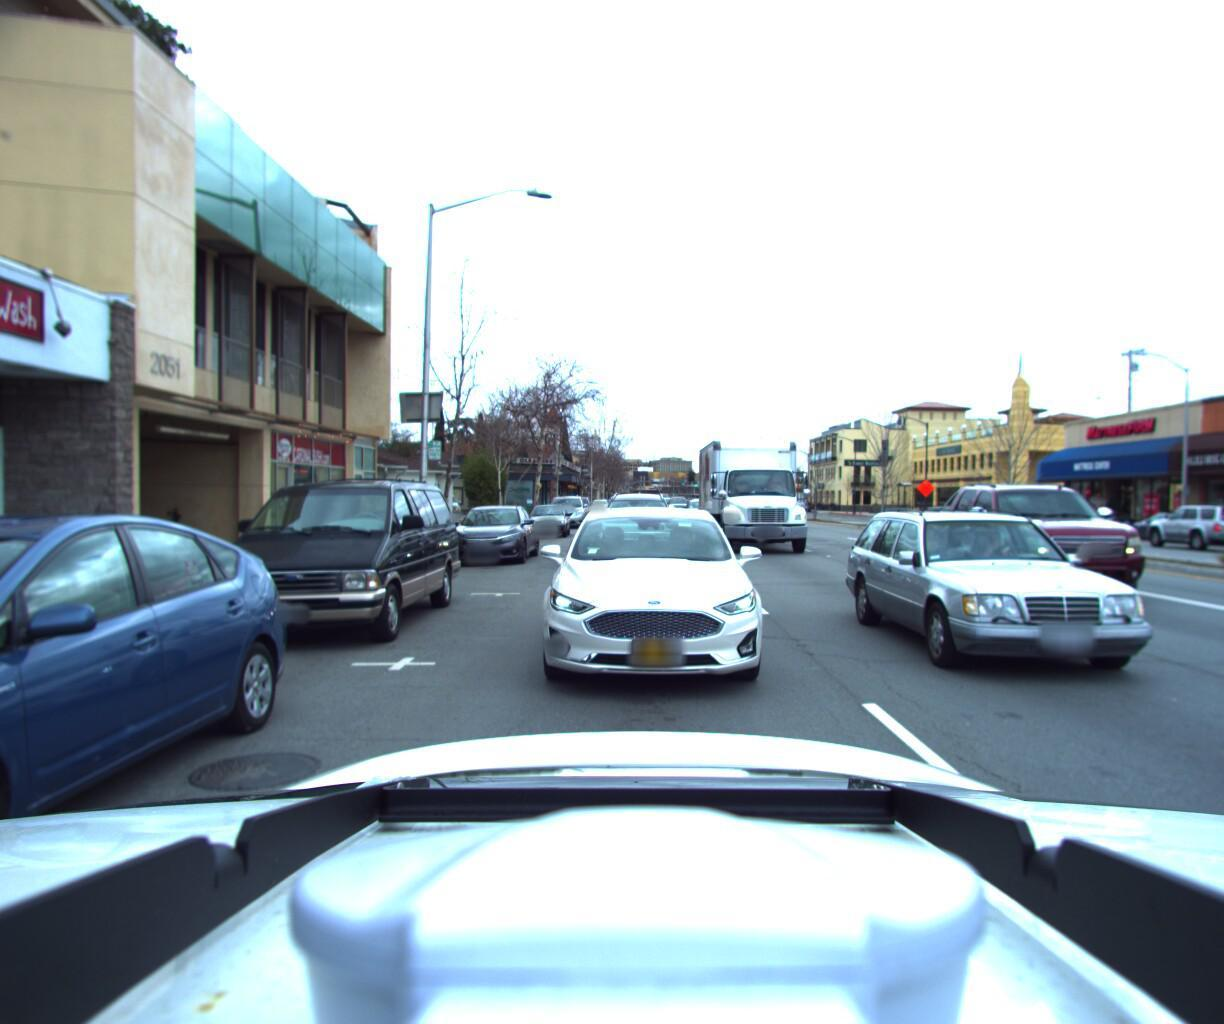car: (823, 497, 1184, 698), (521, 492, 774, 716), (185, 467, 467, 666), (922, 474, 1186, 610), (592, 494, 678, 578), (444, 508, 539, 576), (1127, 505, 1224, 557), (1069, 516, 1142, 544), (524, 508, 570, 546), (546, 500, 587, 536), (679, 500, 715, 534), (662, 502, 685, 524)
truck: (686, 432, 827, 567)
